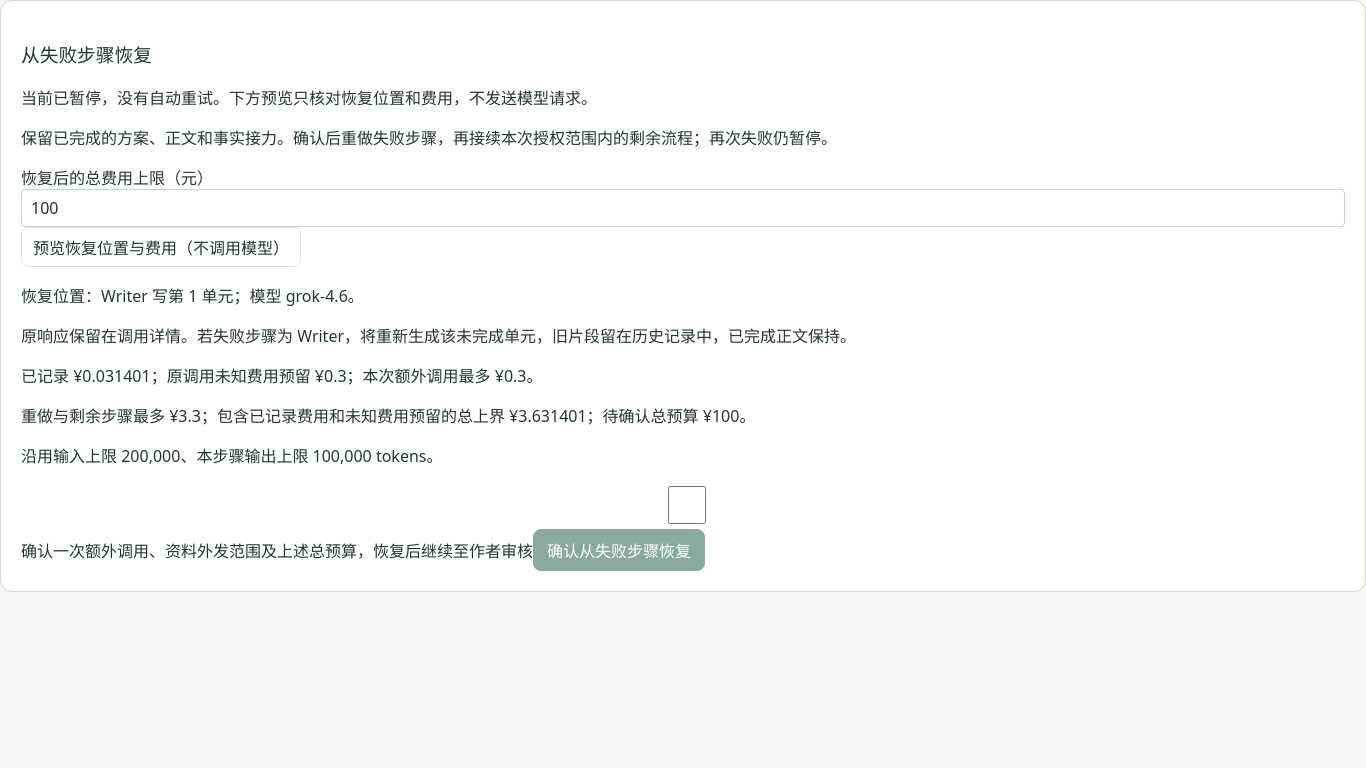
Test: requires only budget confirmation for a known costed failure
Check: the button "确认从失败步骤恢复" is shown, box x1=533 y1=529 x2=705 y2=571
Check: the text "原响应保留在调用详情。若失败步骤为 Writer，将重新生成该未完成单元，旧片段留在历史记录中，已完成正文保持。" is shown, box x1=21 y1=325 x2=856 y2=347
Click the checkbox: [687, 505] box x1=25 y1=486 x2=1349 y2=524
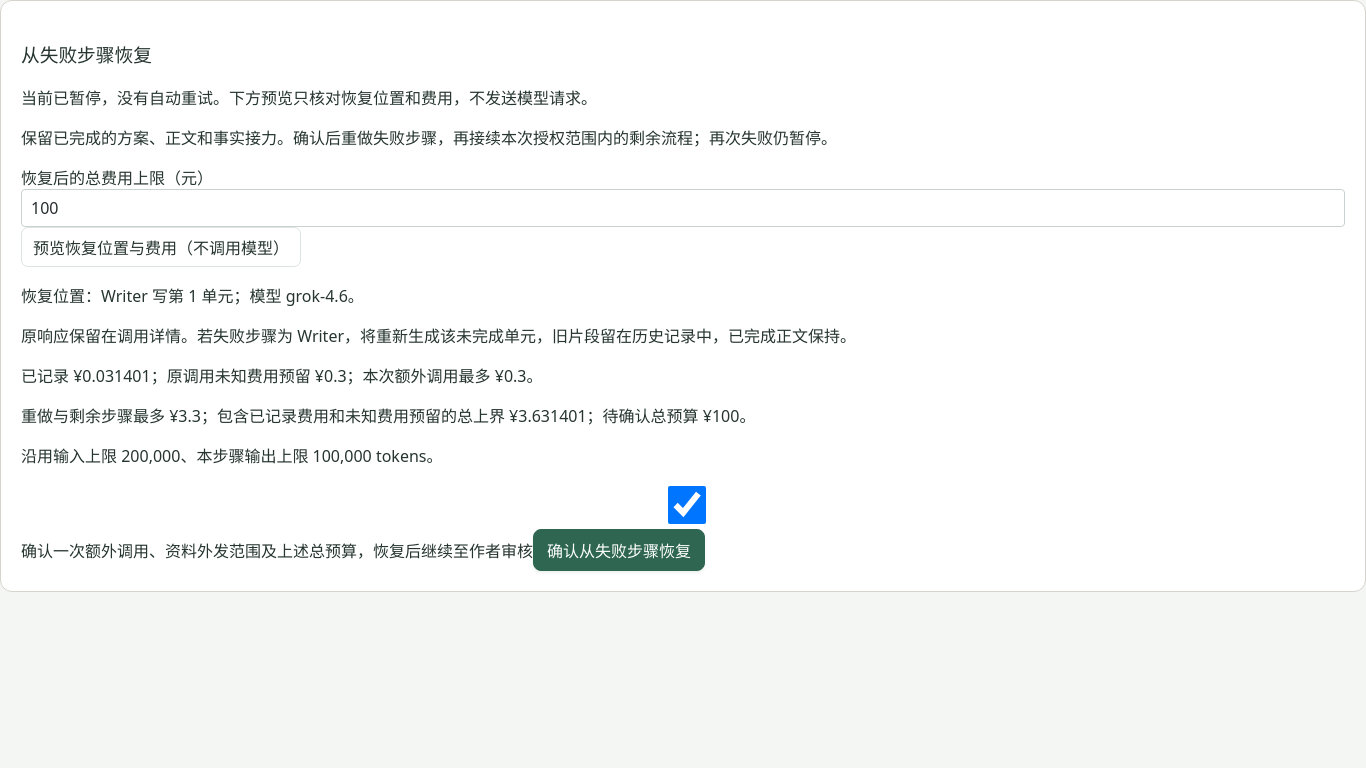
Check: the button "确认从失败步骤恢复" is enabled, box x1=533 y1=529 x2=705 y2=571
